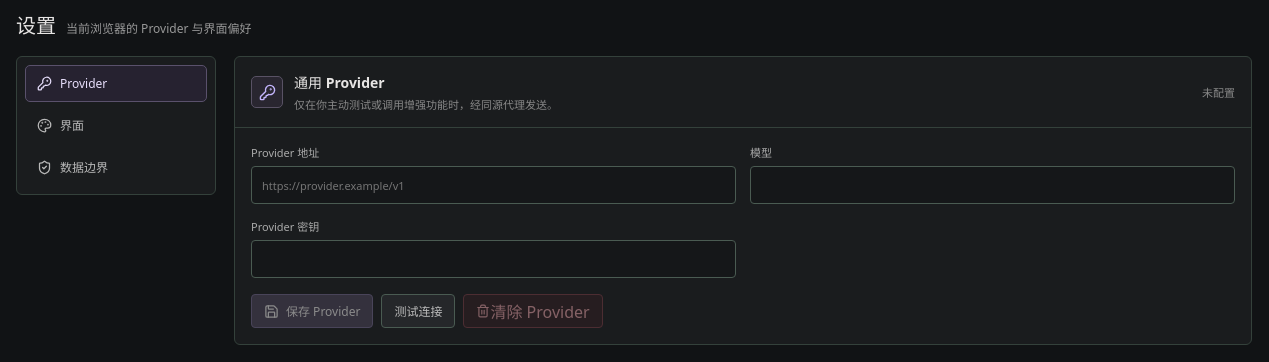
Test case: SettingsPage › switches the active settings panel through the navigation
expect the field labelled "Provider 地址" is shown: met, box 251,166 -> 736,204
Click the button "数据边界" at (116, 167), box 25,148 -> 207,186
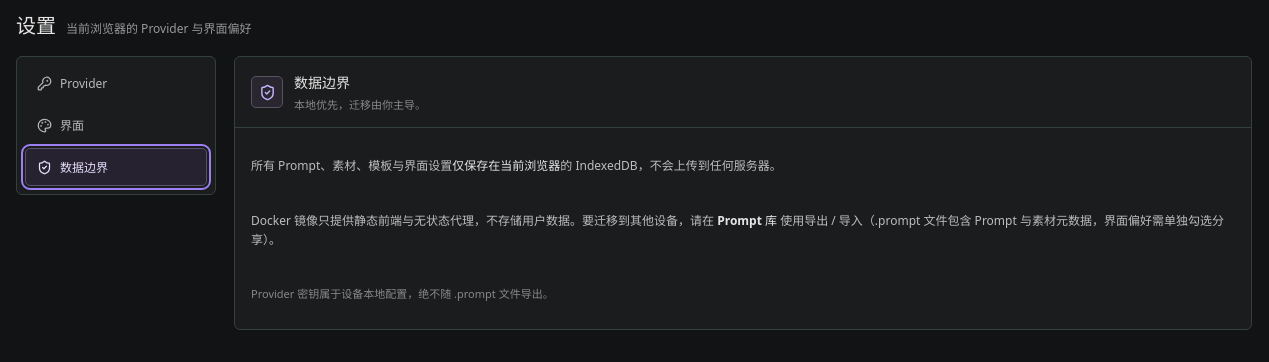
expect the heading "数据边界" is shown: met, box 294,73 -> 350,92
expect the label labelled "Provider 地址" is gone: met
